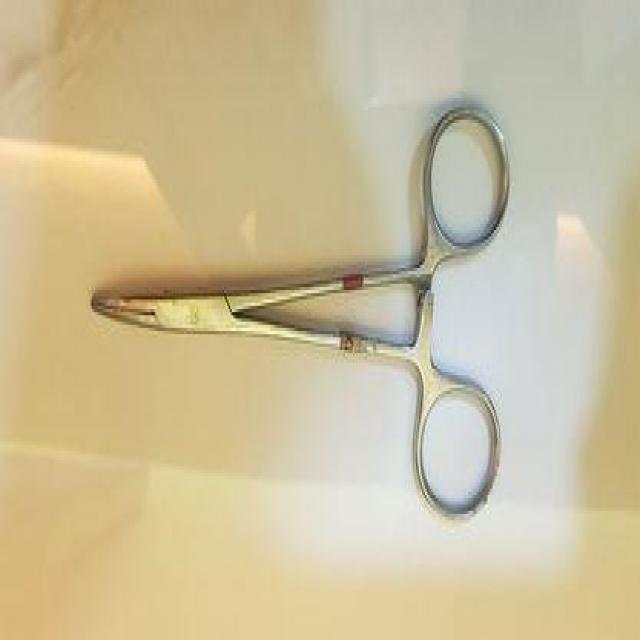Hemostat: (84, 91, 514, 533)
